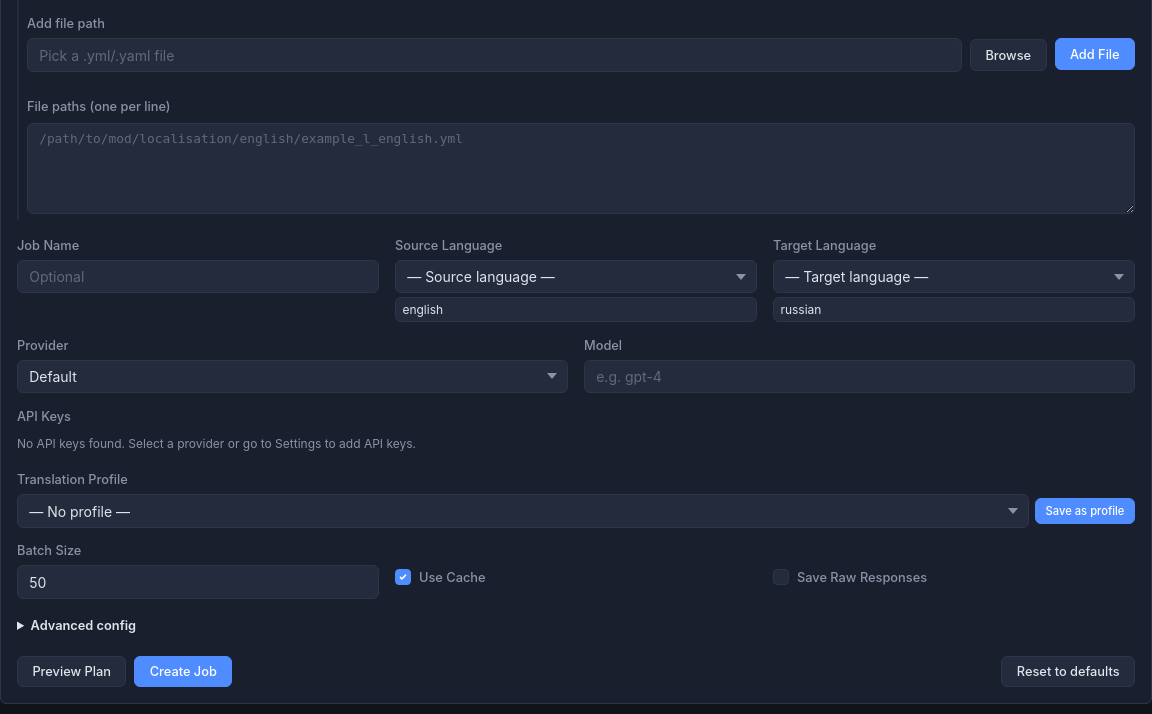
Test: CreateJobForm › effective prompt display and override prefill › shows effective prompt templates (read-only) when override is OFF and profile selected
(page scrolled)
Click the heading "Advanced config".
click(83, 626)  # box 30,618 -> 136,633
(page scrolled)
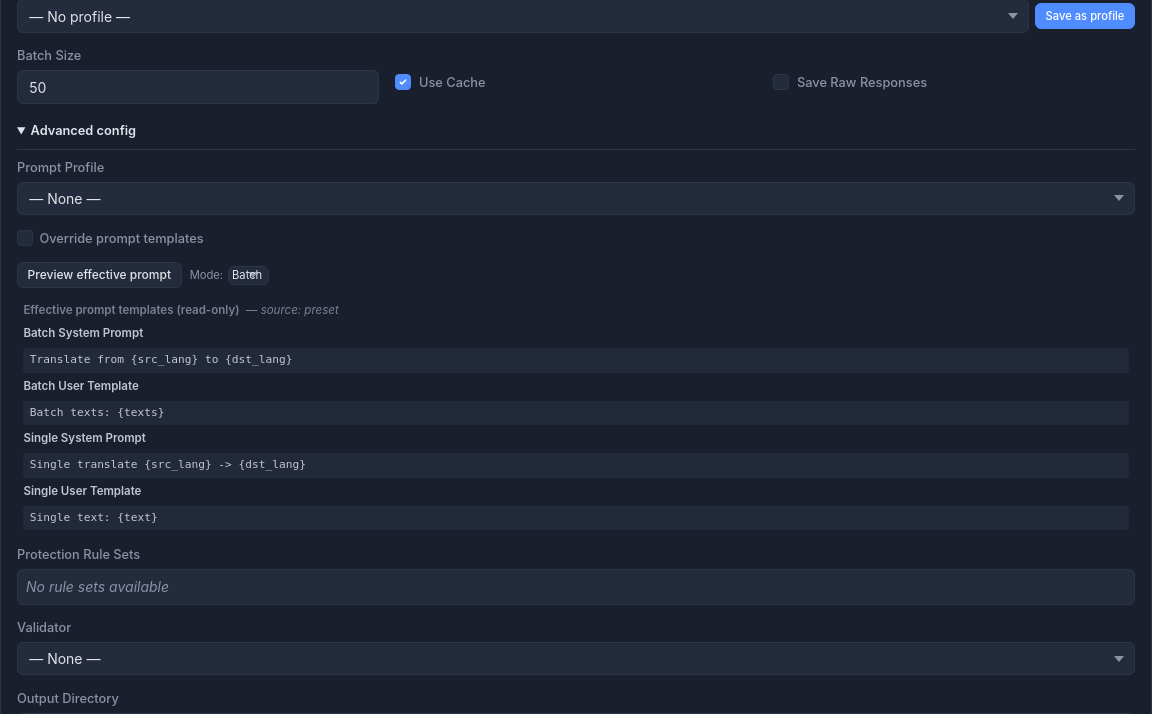
Check: the text "Effective prompt templates (read-only)— source: preset" is shown, box 23,304 -> 339,318
Check: the text "— source: preset" is shown, box 246,304 -> 339,318
Check: the text "Translate from {src_lang} to {dst_lang}" is shown, box 23,348 -> 1129,373
